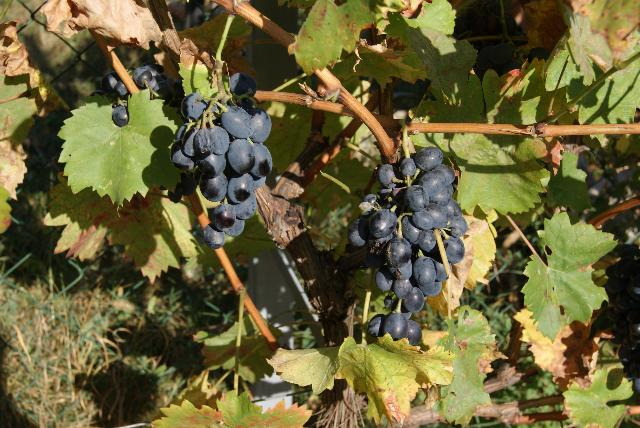grapes: (349, 146, 469, 345), (170, 72, 272, 249)
